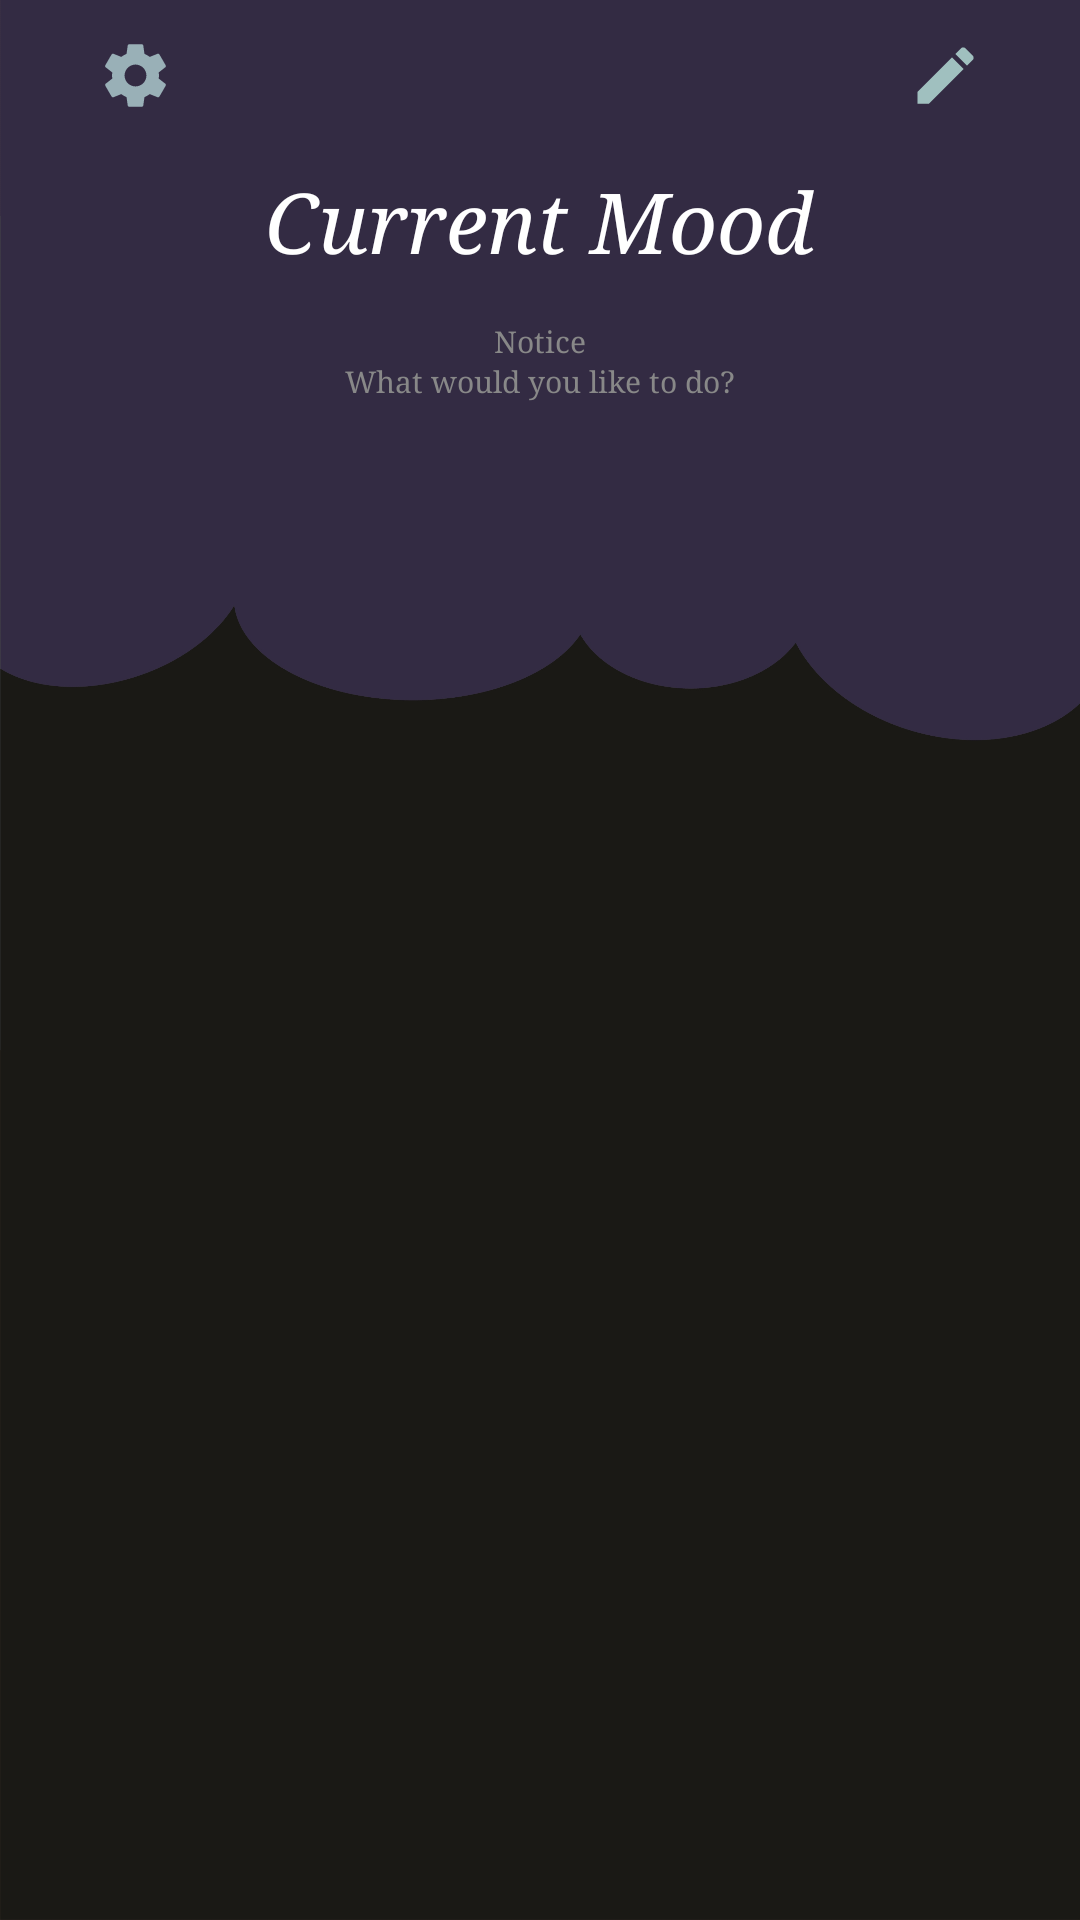

Where icons sit on this 1080x1920 app screen, as (x1, y1, x2, y2):
quick memo: (917, 47, 974, 104)
settings: (105, 44, 166, 107)
